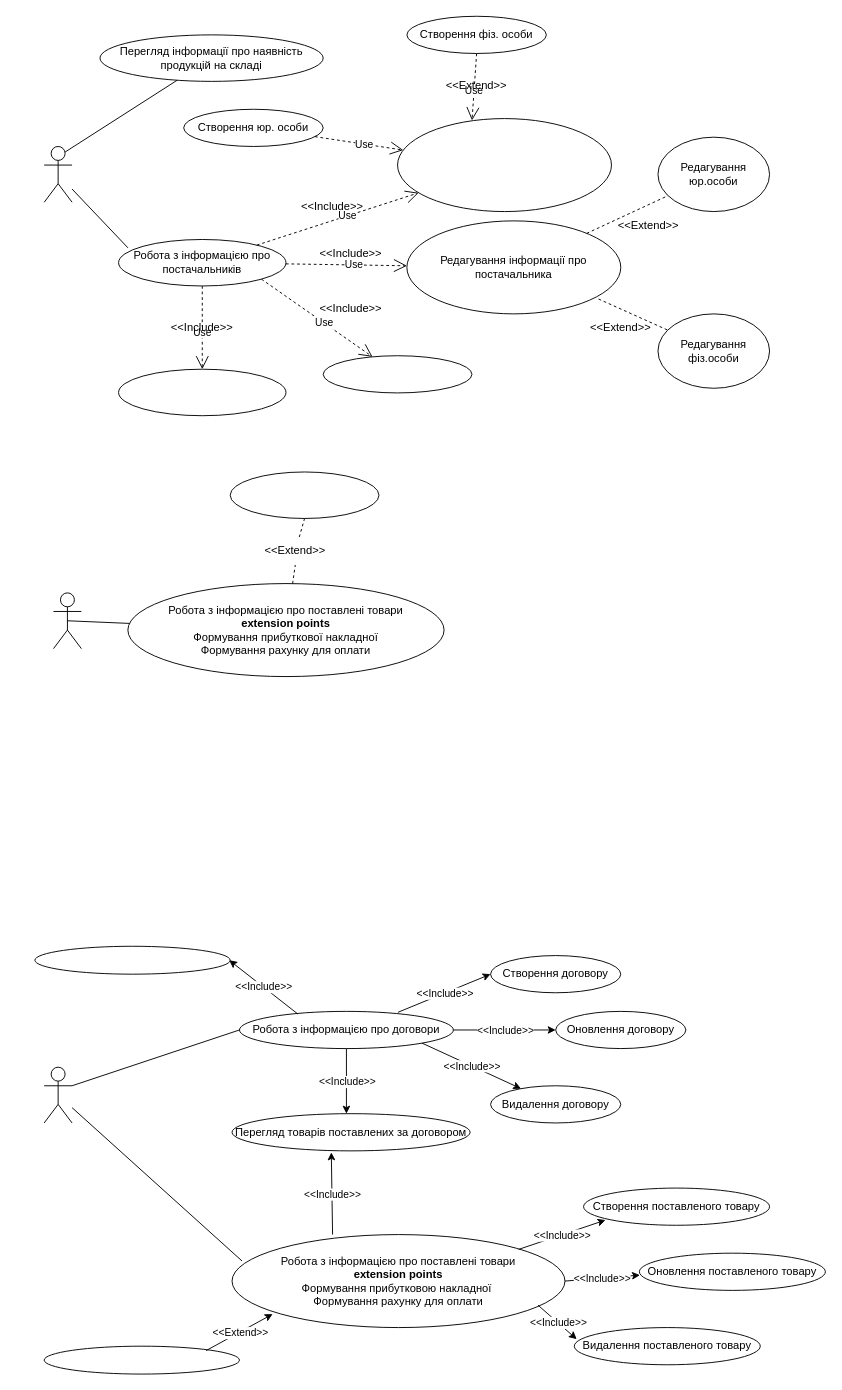
The diagram is 842 pixels wide and 1390 high, and some of its shapes have lost their labels. Here are the shapes that lost their labels. From the top down, the box of each, then its label:
(43, 146, 72, 202): Робітник віділу маркетингу
(397, 118, 611, 212): Створення постачальника
(118, 368, 286, 416): Перегляд інформації про постачальників
(322, 355, 472, 393): Видалення постачальника
(229, 471, 379, 518): Формування рахунку для оплати
(53, 592, 81, 649): Робітник бухгалтеії
(34, 945, 230, 974): Перегляд інформації про договори
(43, 1066, 72, 1123): Робітник відділу постачання
(43, 1345, 239, 1374): Формування прибуткової накладної
